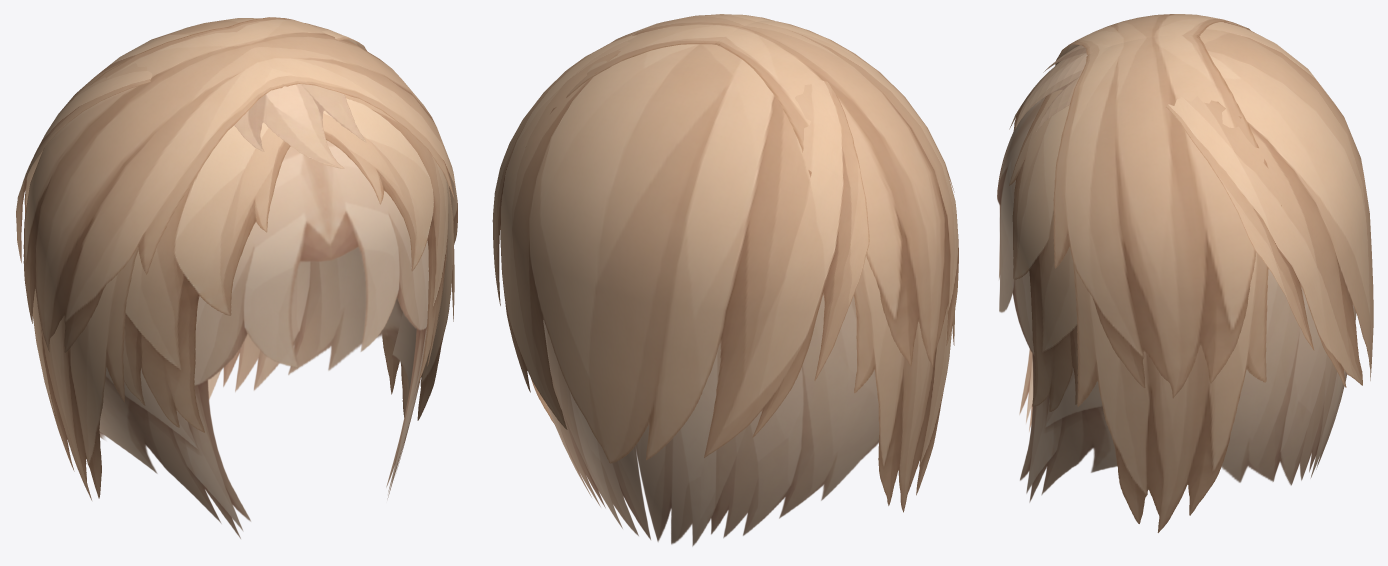
Rendered from female-hair-visible-20260917-r02.glb.
The picture shows the model from 3 angles, left to right: view 1: azimuth 30°, elevation 25°; view 2: azimuth 150°, elevation 25°; view 3: azimuth 270°, elevation 25°; orthographic projection. The views are drawn at different scales.
Parts seen in each view (by area): view 1: Female_Hair_Blonde_blonde-side-back-preview_06.002, Female_Hair_Blonde_Bob_Hemisphere_Extruded, Female_Hair_Blonde_blonde-side-back-preview_01.002, Female_Hair_Blonde_blonde-side-back-preview_06.001, Female_Hair_Blonde_blonde-locks-preview_06.001, Female_Hair_Blonde_blonde-side-back-preview_07.001; view 2: Female_Hair_Blonde_blonde-side-back-preview_07.001, Female_Hair_Blonde_Bob_Hemisphere_Extruded, Female_Hair_Blonde_blonde-side-back-preview_06.002, Female_Hair_Blonde_blonde-side-back-preview_06.001; view 3: Female_Hair_Blonde_blonde-side-back-preview_06.002, Female_Hair_Blonde_blonde-side-back-preview_07.001, Female_Hair_Blonde_Bob_Hemisphere_Extruded, Female_Hair_Blonde_blonde-side-back-preview_06.001, Female_Hair_Blonde_blonde-side-back-preview_01.002, Female_Hair_Blonde_blonde-locks-preview_06.001.
Boxes of the visible parts, <box> form: Female_Hair_Blonde_blonde-side-back-preview_06.002: <box>23,17,457,352</box>; Female_Hair_Blonde_Bob_Hemisphere_Extruded: <box>99,140,428,538</box>; Female_Hair_Blonde_blonde-side-back-preview_01.002: <box>123,94,448,432</box>; Female_Hair_Blonde_blonde-side-back-preview_06.001: <box>32,173,454,500</box>; Female_Hair_Blonde_blonde-locks-preview_06.001: <box>234,84,366,168</box>; Female_Hair_Blonde_blonde-side-back-preview_07.001: <box>16,18,366,262</box>; Female_Hair_Blonde_blonde-side-back-preview_07.001: <box>492,33,869,463</box>; Female_Hair_Blonde_Bob_Hemisphere_Extruded: <box>543,295,879,546</box>; Female_Hair_Blonde_blonde-side-back-preview_06.002: <box>525,14,958,366</box>; Female_Hair_Blonde_blonde-side-back-preview_06.001: <box>531,256,955,512</box>; Female_Hair_Blonde_blonde-side-back-preview_06.002: <box>1053,14,1281,398</box>; Female_Hair_Blonde_blonde-side-back-preview_07.001: <box>1166,14,1373,387</box>; Female_Hair_Blonde_Bob_Hemisphere_Extruded: <box>997,96,1356,502</box>; Female_Hair_Blonde_blonde-side-back-preview_06.001: <box>1073,252,1268,532</box>; Female_Hair_Blonde_blonde-side-back-preview_01.002: <box>1009,59,1077,411</box>; Female_Hair_Blonde_blonde-locks-preview_06.001: <box>1015,45,1087,132</box>.
Bounding box in the file's own units: 0.6486 × 0.7133 × 0.5542.
Materials: 3 (3 with a texture image).
